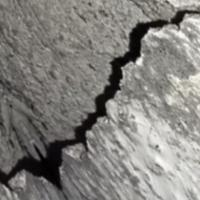crack: (6, 5, 199, 197)
